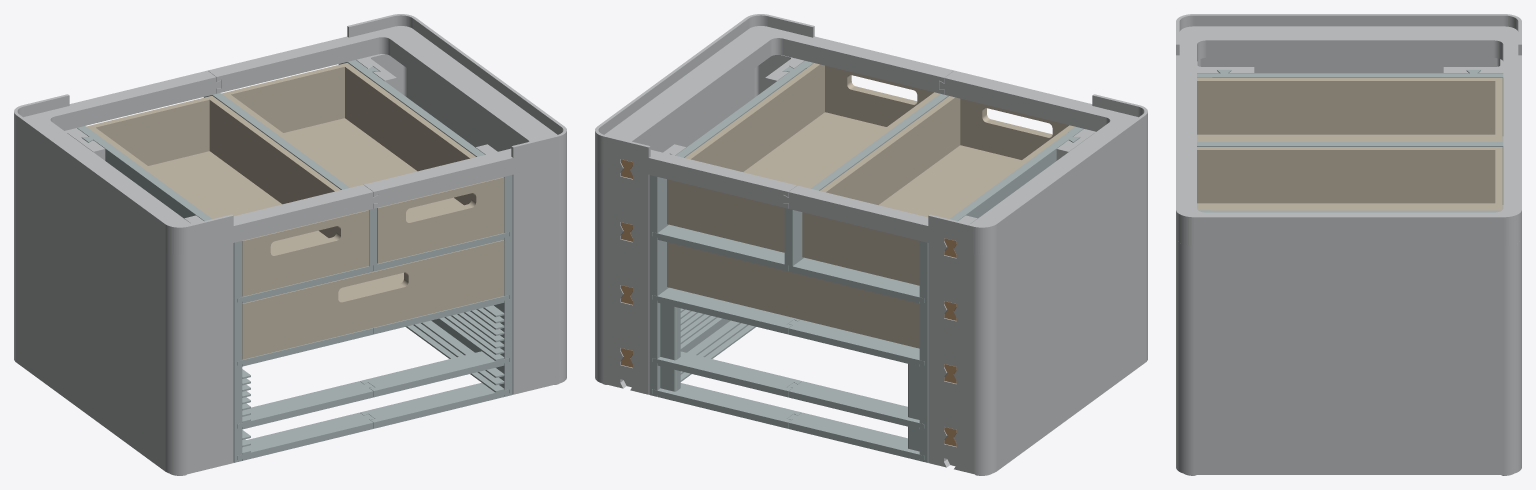
Rendered from stacknest-no-ht.glb.
The picture shows the model from 3 angles, left to right: view 1: azimuth 30°, elevation 25°; view 2: azimuth 150°, elevation 25°; view 3: azimuth 270°, elevation 25°; orthographic projection. The views are drawn at different scales.
Parts seen in each view (by area): view 1: 2-drawer-layer__drawer_2, 2-drawer-layer__drawer_1, device-top__top_2, device-top__top_1, 1-drawer-layer__drawer_half_1, 2-drawer-layer__end_left_1, 1-drawer-layer__end_left_1, 8-slot-plate-layer__end_left, 2-drawer-layer__end_right_1, 3-slot-plate-layer__end_left, 1-drawer-layer__end_right_1, 8-slot-plate-layer__end_right (+16 smaller); view 2: 2-drawer-layer__drawer_2, 2-drawer-layer__drawer_1, device-top__top_2, device-top__top_1, 2-drawer-layer__end_left_1, 8-slot-plate-layer__end_left, 1-drawer-layer__end_left_1, 1-drawer-layer__drawer_half_2, 2-drawer-layer__end_right_1, 3-slot-plate-layer__end_left, 1-drawer-layer__end_right_1, 8-slot-plate-layer__end_right (+17 smaller); view 3: 8-slot-plate-layer__end_right, 2-drawer-layer__end_right_1, 1-drawer-layer__end_right_1, 2-drawer-layer__drawer_1, 2-drawer-layer__drawer_2, device-top__top_1, device-top__top_2, 3-slot-plate-layer__end_right, 2-drawer-layer__end_left_1, 2-drawer-layer__side_left, 2-drawer-layer__divider_1, 2-drawer-layer__side_right.
Boxes of the visible parts, x1,y1,x2,y2 form: 2-drawer-layer__drawer_2: [221, 62, 504, 263]; 2-drawer-layer__drawer_1: [86, 96, 368, 296]; device-top__top_2: [208, 14, 566, 208]; device-top__top_1: [14, 70, 378, 254]; 1-drawer-layer__drawer_half_1: [242, 240, 504, 359]; 2-drawer-layer__end_left_1: [14, 128, 233, 317]; 1-drawer-layer__end_left_1: [14, 203, 233, 380]; 8-slot-plate-layer__end_left: [14, 266, 233, 443]; 2-drawer-layer__end_right_1: [356, 54, 566, 237]; 3-slot-plate-layer__end_left: [14, 328, 233, 475]; 1-drawer-layer__end_right_1: [512, 221, 566, 300]; 8-slot-plate-layer__end_right: [512, 284, 566, 363]; 2-drawer-layer__drawer_2: [667, 63, 939, 252]; 2-drawer-layer__drawer_1: [802, 96, 1074, 285]; device-top__top_2: [595, 14, 953, 208]; device-top__top_1: [783, 70, 1147, 254]; 2-drawer-layer__end_left_1: [928, 129, 1147, 317]; 8-slot-plate-layer__end_left: [928, 266, 1147, 443]; 1-drawer-layer__end_left_1: [928, 203, 1147, 380]; 1-drawer-layer__drawer_half_2: [667, 242, 919, 348]; 2-drawer-layer__end_right_1: [595, 55, 804, 237]; 3-slot-plate-layer__end_left: [928, 328, 1147, 475]; 1-drawer-layer__end_right_1: [595, 221, 649, 300]; 8-slot-plate-layer__end_right: [595, 284, 649, 363]; 8-slot-plate-layer__end_right: [1176, 370, 1521, 442]; 2-drawer-layer__end_right_1: [1176, 239, 1521, 311]; 1-drawer-layer__end_right_1: [1176, 304, 1521, 376]; 2-drawer-layer__drawer_1: [1197, 78, 1502, 141]; 2-drawer-layer__drawer_2: [1197, 147, 1502, 210]; device-top__top_1: [1176, 14, 1521, 126]; device-top__top_2: [1176, 126, 1521, 245]; 3-slot-plate-layer__end_right: [1176, 435, 1521, 475]; 2-drawer-layer__end_left_1: [1197, 58, 1503, 73]; 2-drawer-layer__side_left: [1197, 70, 1503, 135]; 2-drawer-layer__divider_1: [1197, 142, 1503, 204]; 2-drawer-layer__side_right: [1198, 210, 1501, 212].
Bounding box in the file's own units: 0.399 × 0.239 × 0.287.
